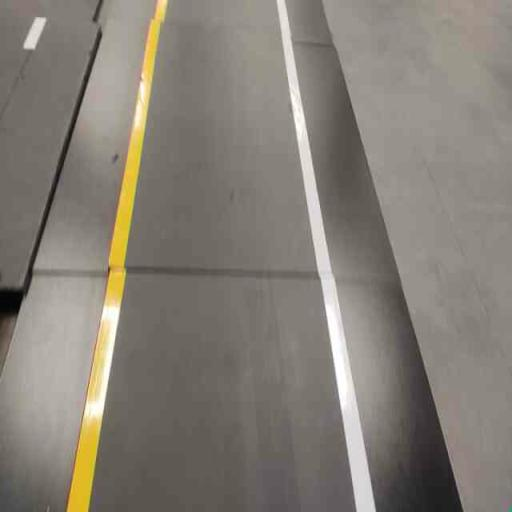straight: (63, 270, 383, 508)
